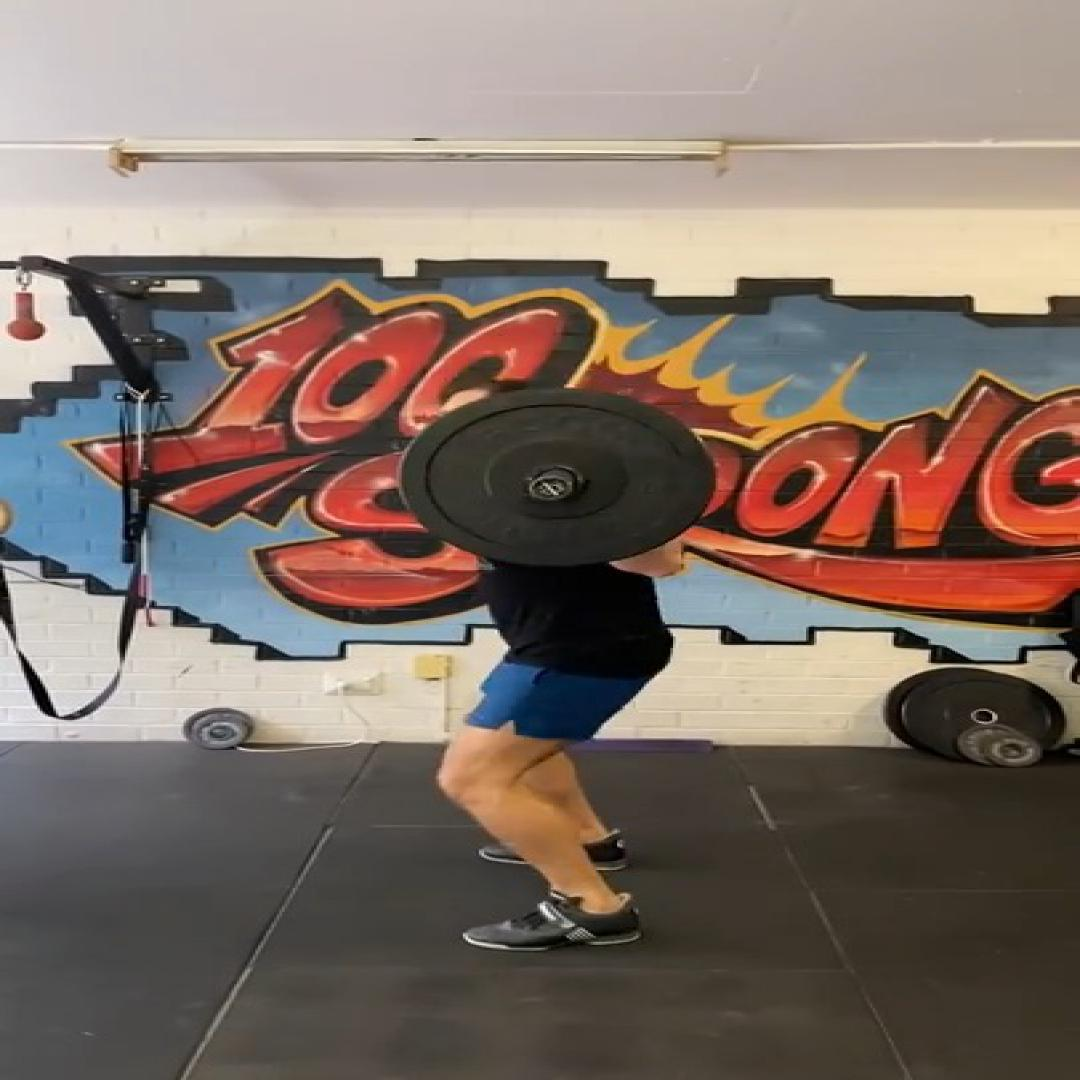Bar: (526, 475, 574, 501)
Barbell: (396, 389, 716, 567)
